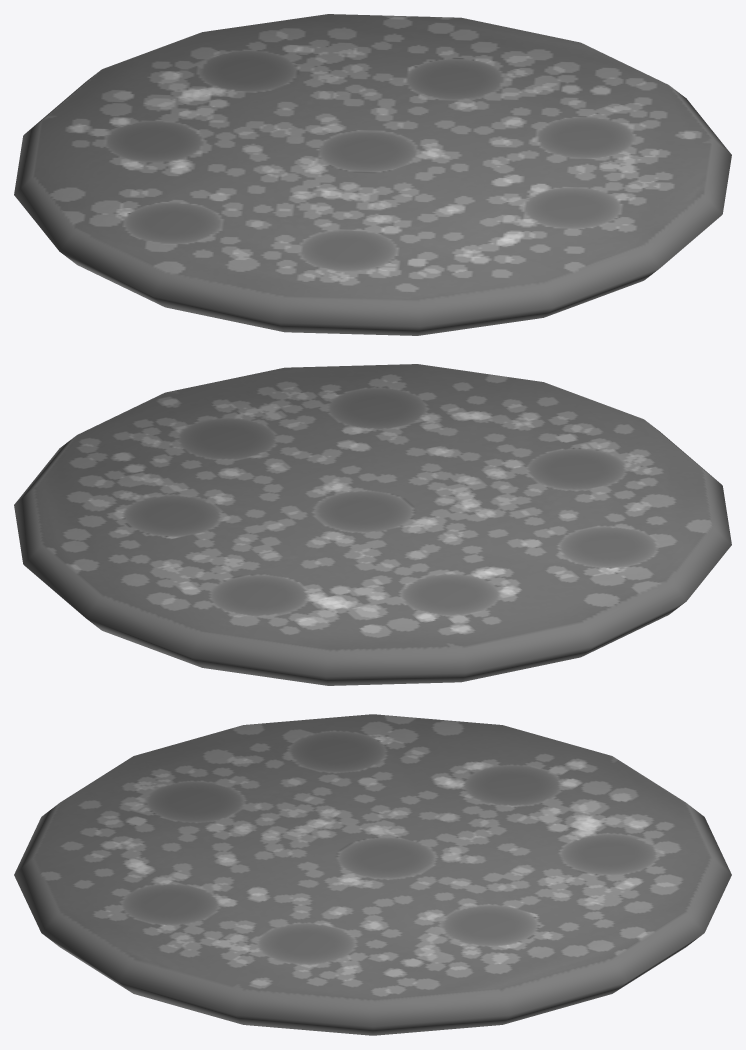
Rendered from Recipe.fbx.
3 renders of one model, top to bottom at view 1: azimuth 30°, elevation 25°; view 2: azimuth 150°, elevation 25°; view 3: azimuth 270°, elevation 25°, orthographic.
Parts seen in each view (by area): view 1: RecipeTemplate; view 2: RecipeTemplate; view 3: RecipeTemplate.
Boxes of the visible parts, bbox=[...] form: RecipeTemplate: bbox=[14, 14, 731, 335]; RecipeTemplate: bbox=[14, 364, 731, 685]; RecipeTemplate: bbox=[14, 714, 731, 1035].
Size of the model in its own units: 200 by 10.89 by 200.
